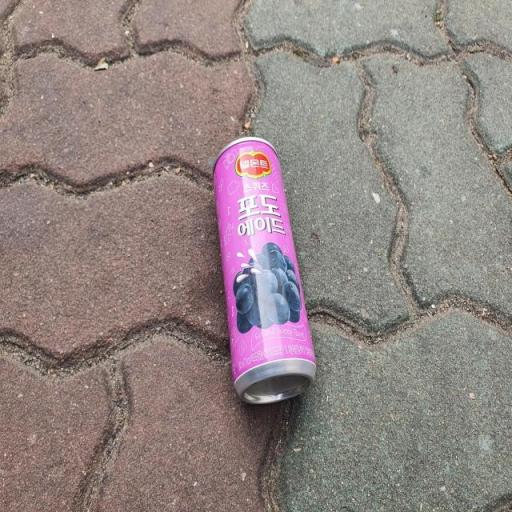metal: (179, 112, 367, 438)
